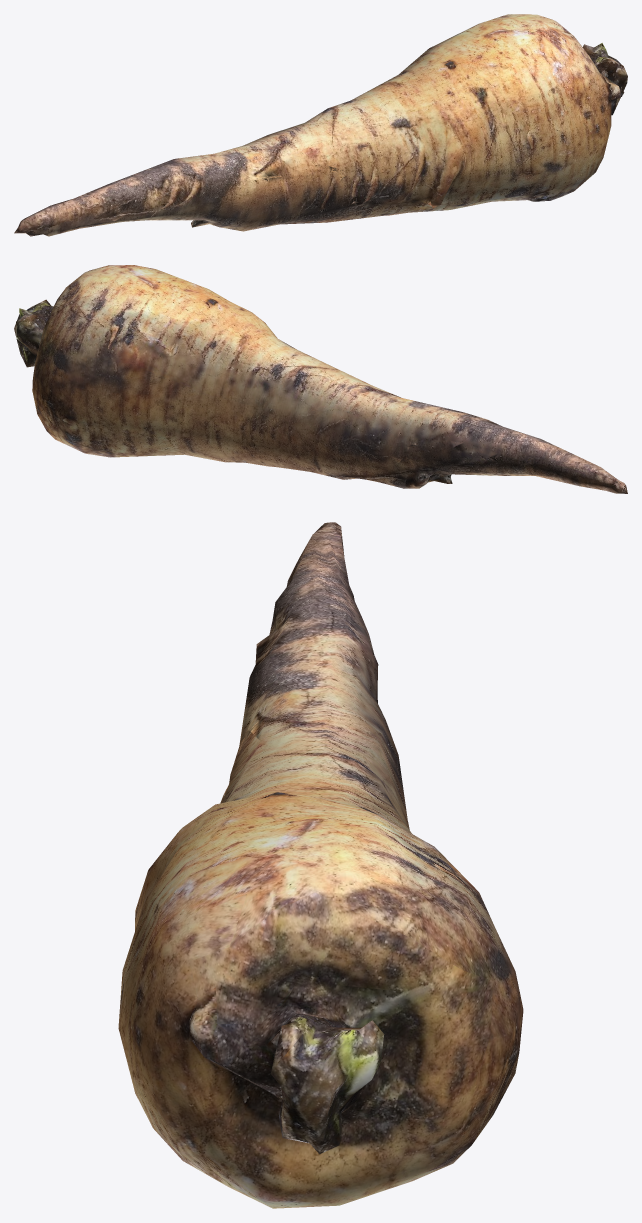
The picture shows the model from 3 angles, top to bottom: view 1: azimuth 30°, elevation 25°; view 2: azimuth 150°, elevation 25°; view 3: azimuth 270°, elevation 25°; orthographic projection. The views are drawn at different scales.
Visible parts, largest first — view 1: 48_parsnip; view 2: 48_parsnip; view 3: 48_parsnip.
Part boxes in pixels (left/top/right/bottom): 48_parsnip: left=14, top=14, right=627, bottom=236; 48_parsnip: left=14, top=265, right=627, bottom=493; 48_parsnip: left=118, top=522, right=523, bottom=1208.
Bounding box in the file's own units: 1.56 × 0.4111 × 0.452.
1 material, 1 textured.
